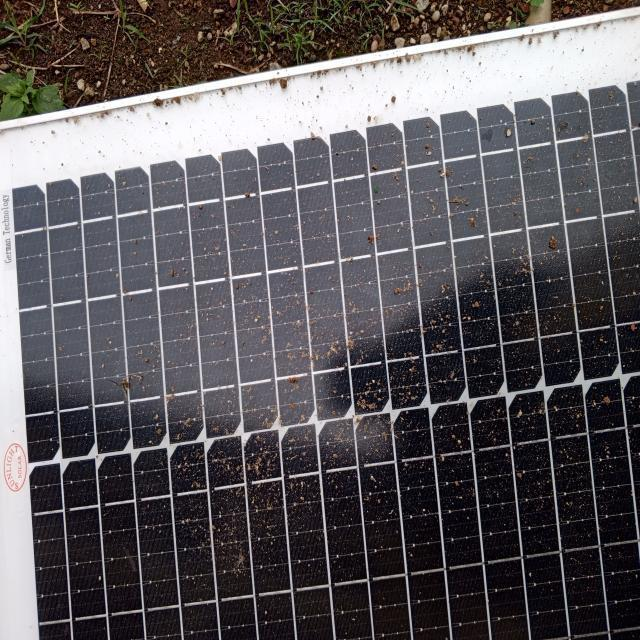Surface Contaminant: (8, 159, 639, 630)
